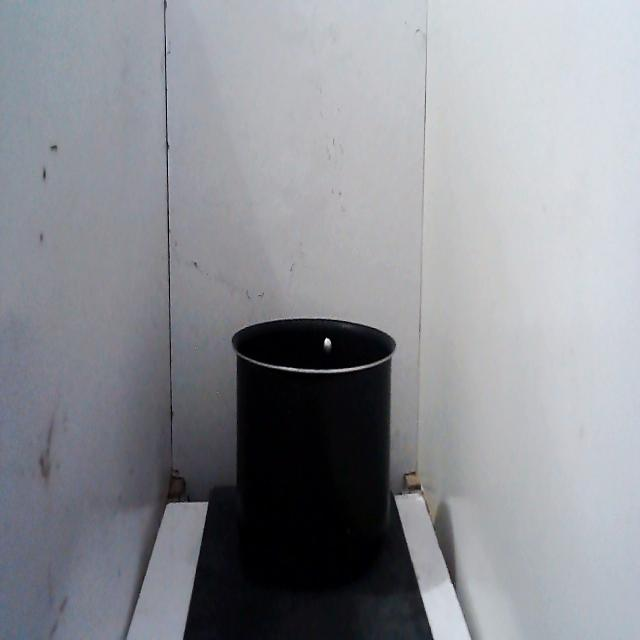metal: (227, 312, 403, 585)
